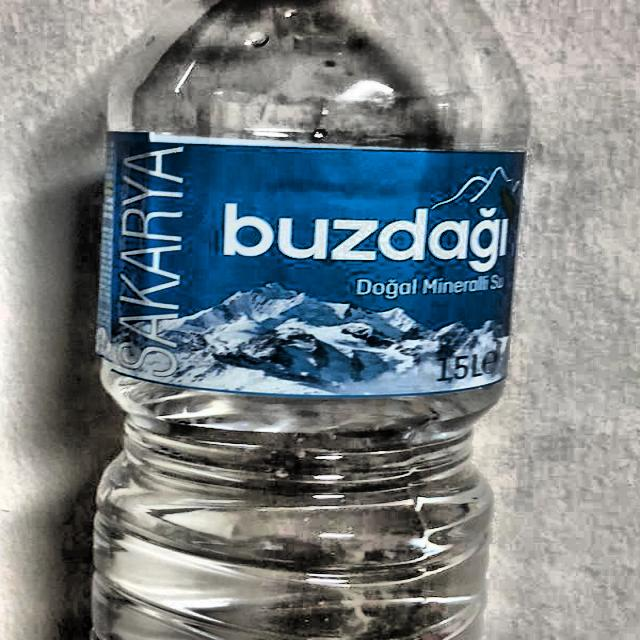plastic: (85, 0, 533, 640)
